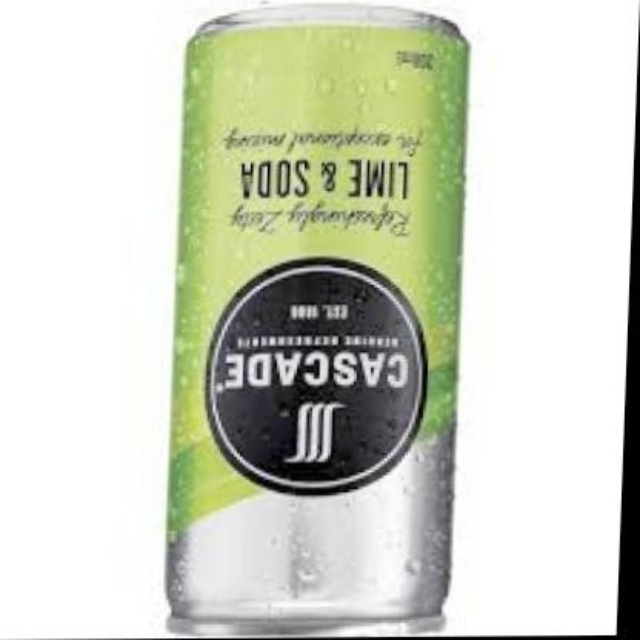trash: (168, 6, 466, 629)
